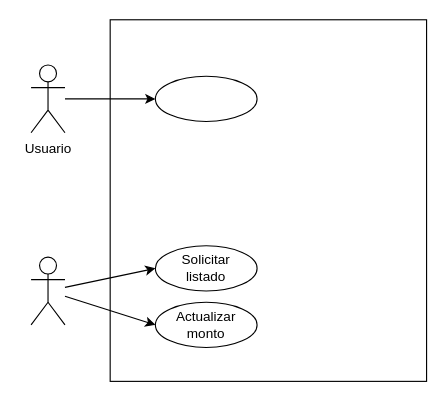
Some shapes in this 446 by 401 pixel diagram are drawn without their labels. The centre of each missing label's shape, as x and y in pixels:
Operador: the point at 47,290
Reciclar elemento: the point at 205,98
